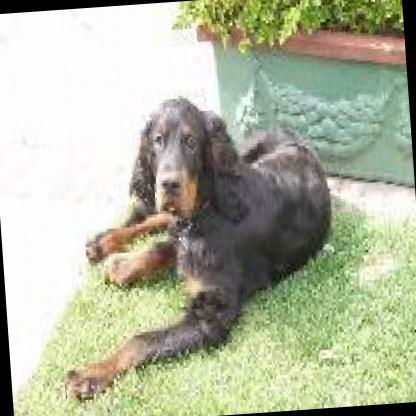Gordon_setter: (31, 78, 346, 411)
